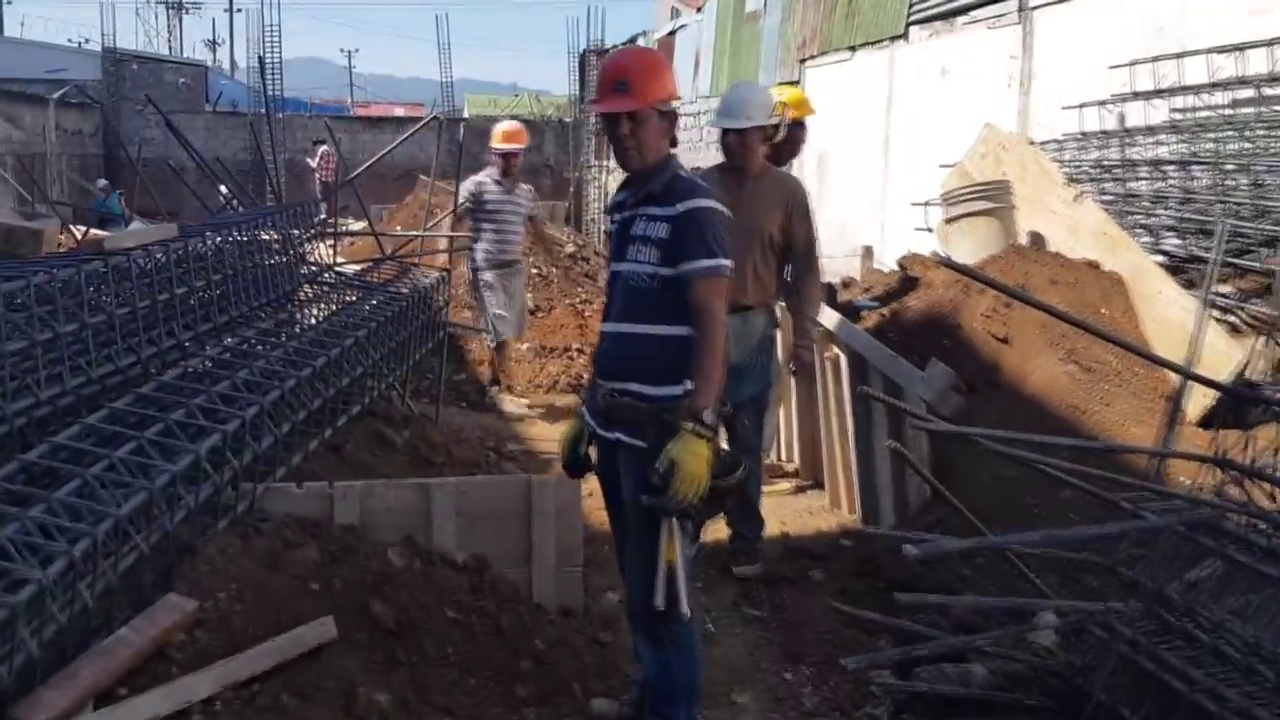helmet: (580, 39, 687, 115), (707, 78, 780, 128), (765, 85, 817, 124), (488, 119, 529, 150), (94, 179, 109, 191)
helmet-off: (310, 136, 328, 152)
helmet-on: (578, 39, 688, 187), (706, 79, 780, 178), (764, 84, 818, 169), (488, 113, 530, 179), (93, 178, 114, 200)
person: (574, 39, 732, 718), (707, 80, 833, 548), (439, 115, 539, 390), (306, 136, 338, 227), (90, 179, 130, 236)
